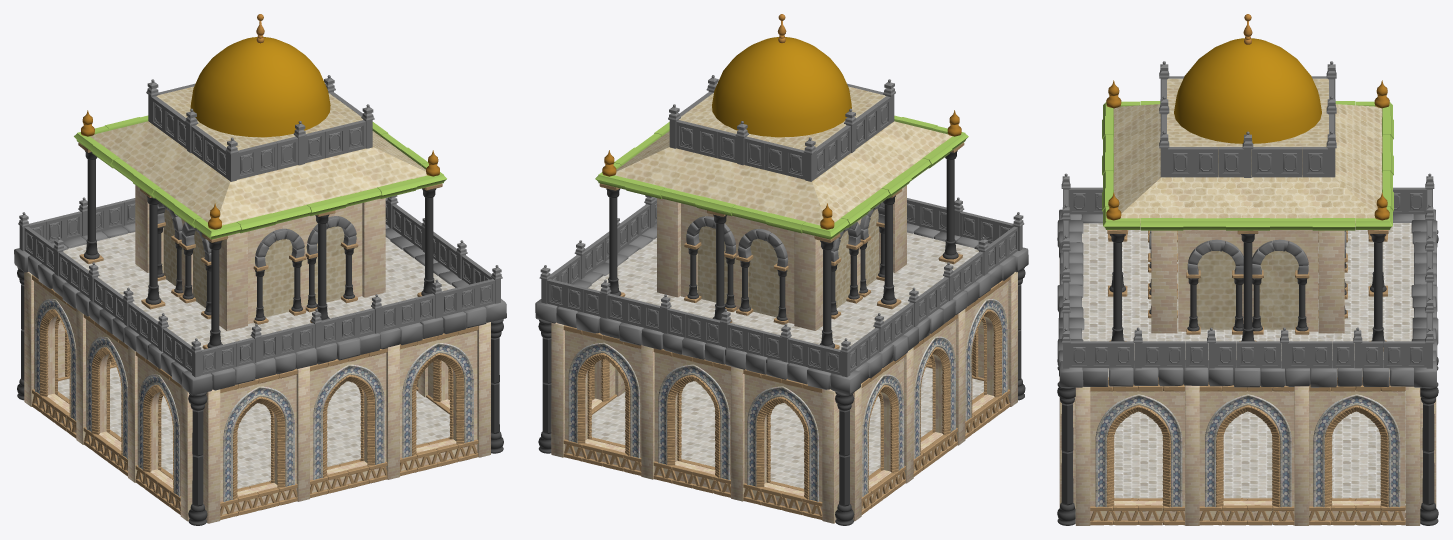
File: SM_temple_01.fbx
3 views of the same model, side by side, from view 1: azimuth 30°, elevation 25°; view 2: azimuth 150°, elevation 25°; view 3: azimuth 270°, elevation 25° (orthographic). The views are drawn at different scales.
Visible parts, largest first — view 1: Object33025; view 2: Object33025; view 3: Object33025.
Boxes of the visible parts, <box> form: Object33025: <box>14,14,506,525</box>; Object33025: <box>535,14,1028,525</box>; Object33025: <box>1057,14,1438,525</box>.
Size of the model in its own units: 487 by 606 by 485.
